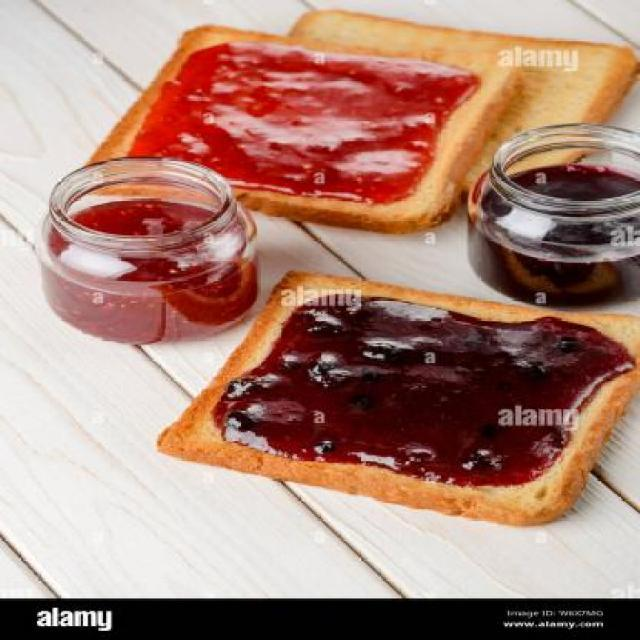Spread: (262, 304, 556, 468), (180, 52, 398, 185)
